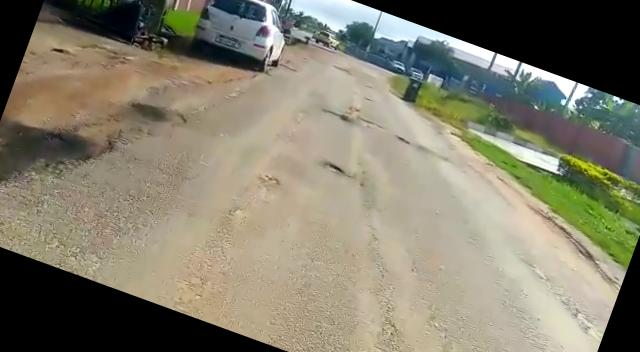pothole: (319, 159, 353, 180)
